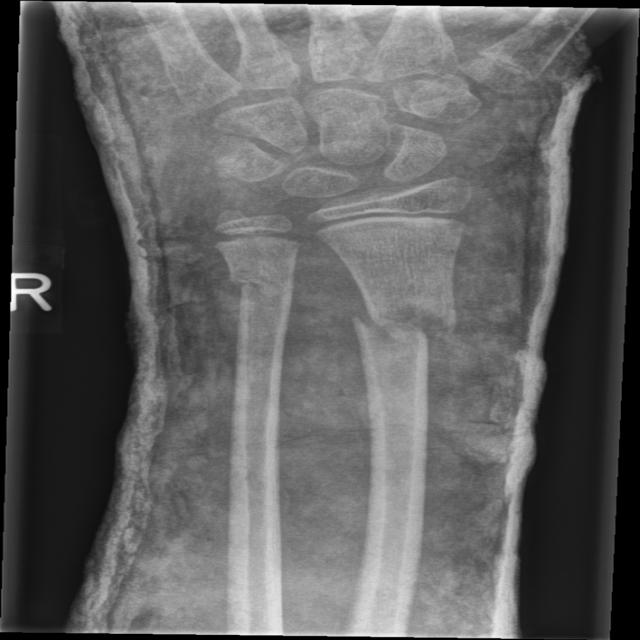radius fracture: (324, 272, 504, 402)
ulna fracture: (215, 238, 313, 361)
